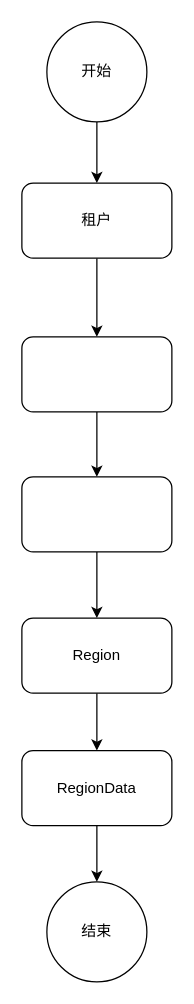
This 194x1004 diagram has some shape labels left out. The shapes that lost their labels are listed below. From the top down, each one's centre as x and y in pixels, then its label:
At point (96, 374): "Schema/Database".
At point (96, 514): "Table".
